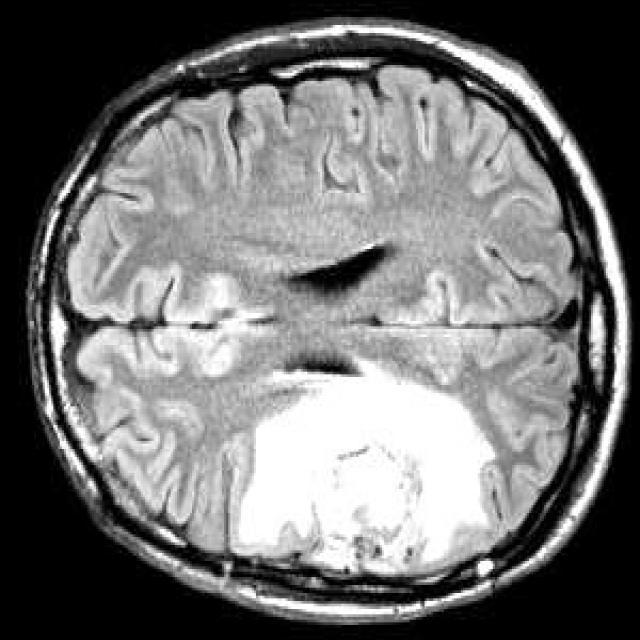tumor: (233, 357, 497, 573)
